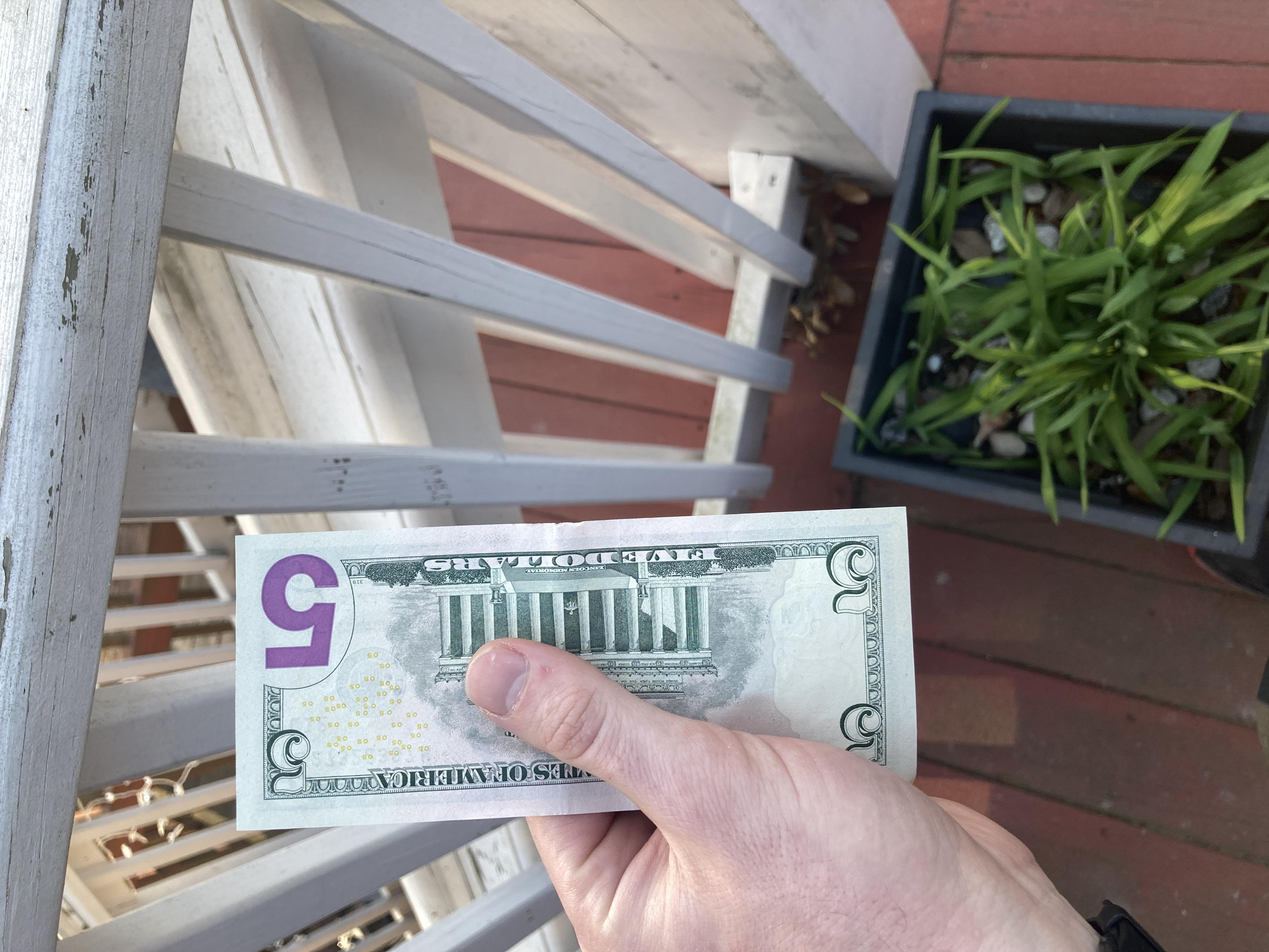five-back: (165, 176, 590, 688)
